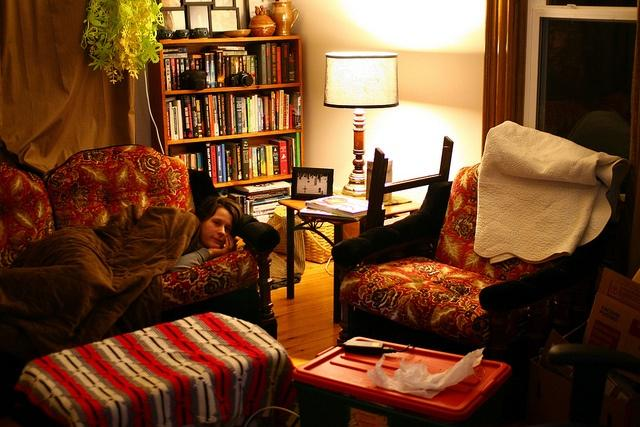Rak: (157, 34, 304, 187)
